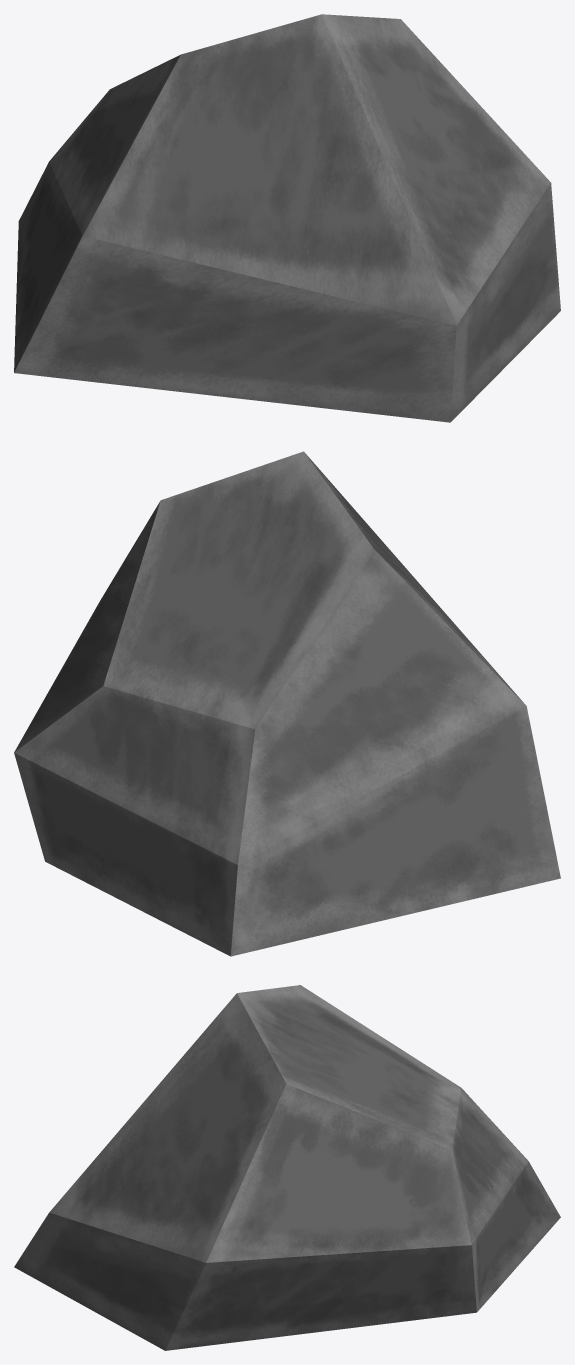
Rendered from rock_model.fbx.
The picture shows the model from 3 angles, top to bottom: view 1: azimuth 30°, elevation 25°; view 2: azimuth 150°, elevation 25°; view 3: azimuth 270°, elevation 25°; orthographic projection. The views are drawn at different scales.
Visible parts, largest first — view 1: pCube5; view 2: pCube5; view 3: pCube5.
Part boxes in pixels (x1,y1,x2,y2): pCube5: (14, 14, 560, 422); pCube5: (14, 451, 560, 956); pCube5: (14, 985, 560, 1350).
Size of the model in its own units: 604 by 373 by 675.
